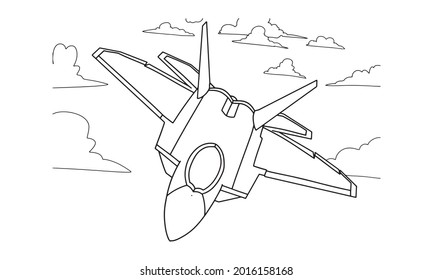airplane: (91, 20, 358, 243)
